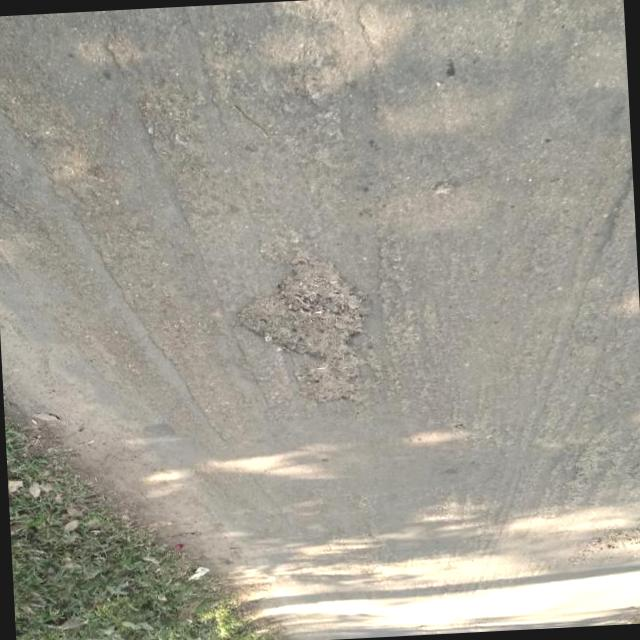pothole: (230, 252, 379, 411), (564, 520, 640, 567)
